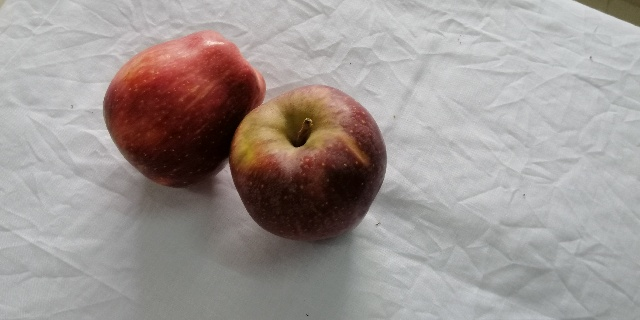apple_kashmir: (100, 32, 264, 194), (231, 84, 390, 244)
